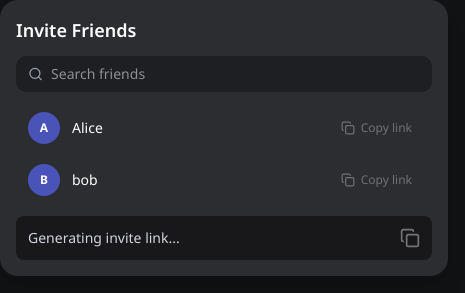
Scenario: FriendList (members) › typing in search filters the friends list by username (case-insensitive includes)
This screenshot has width=465, height=293.
Type "ALI" into the field with placeholder "Search friends" at (236, 74), box [51,64,420,84]
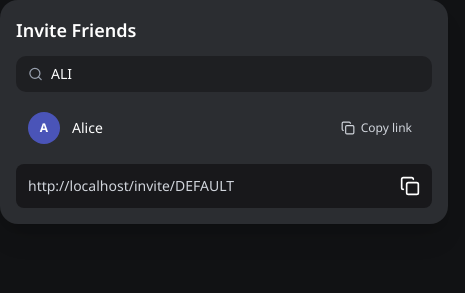
Expected: the text "Alice" is shown, [72,118,103,138]
Expected: the text "bob" is gone
